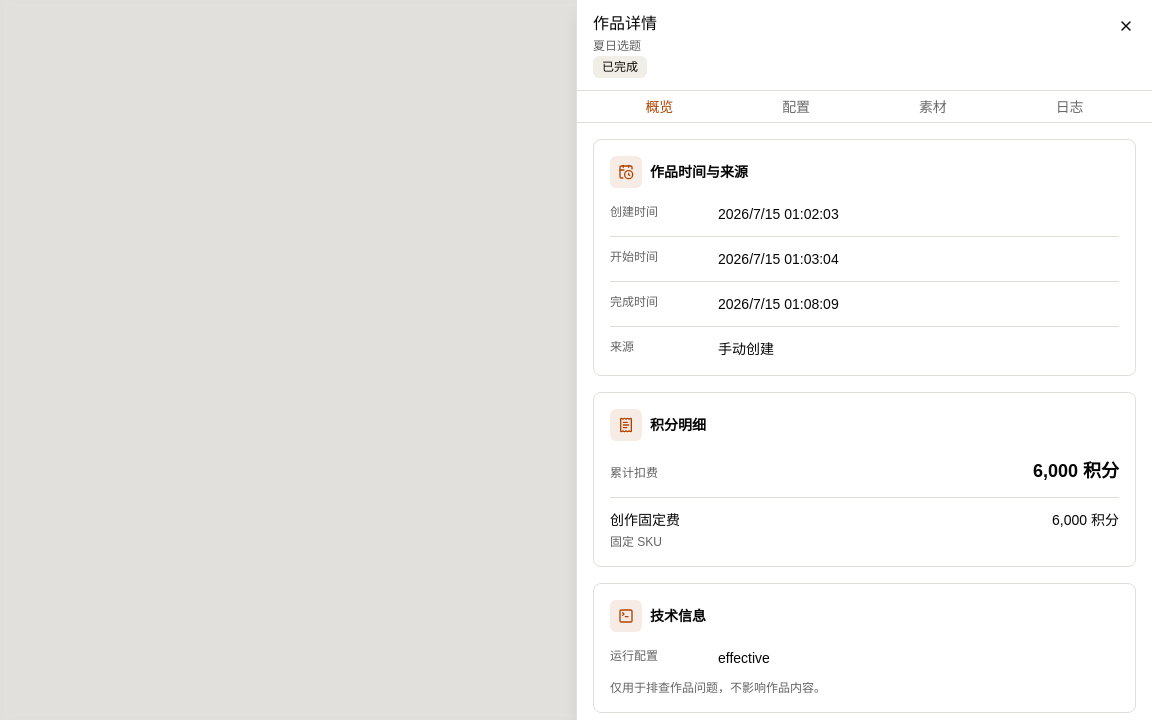
Test: TaskDetailsSheet › places configuration, materials, and logs in named grouped surfaces
Click the tab "配置". click: (796,106)
box: [730,84,863,128]
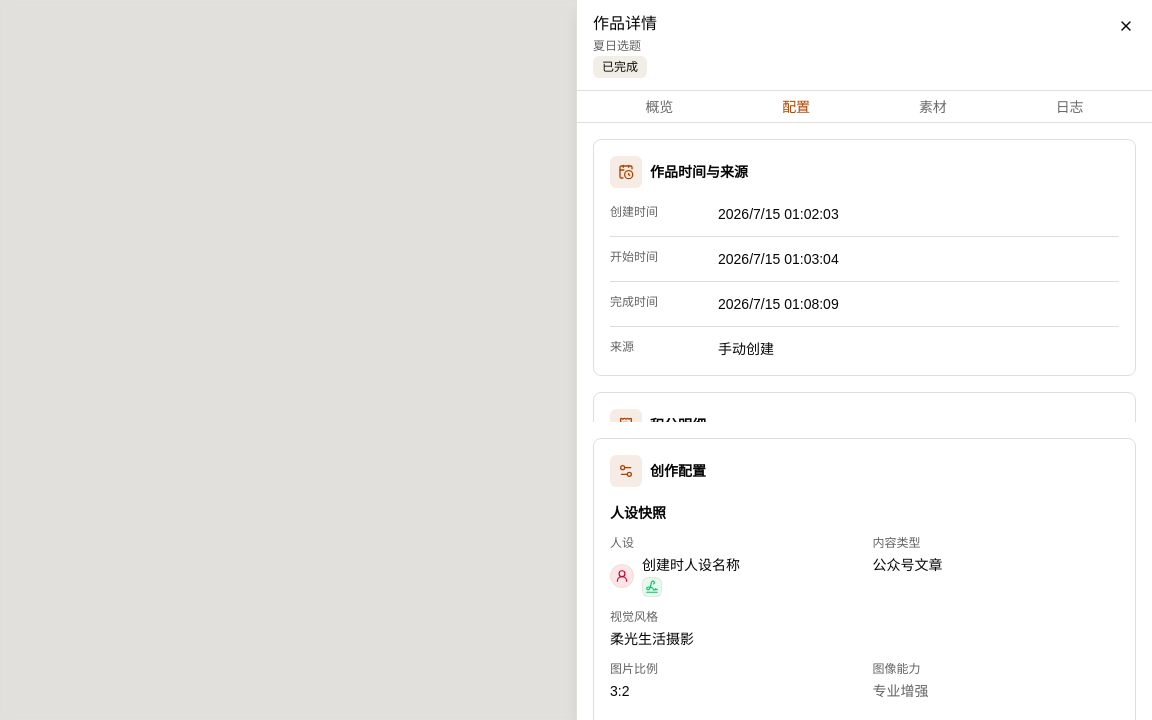
Check: the element named "创作配置详情" is shown, box [593,438,1136,719]
Click the tab "素材". click: (933,106)
box: [866,84,999,128]
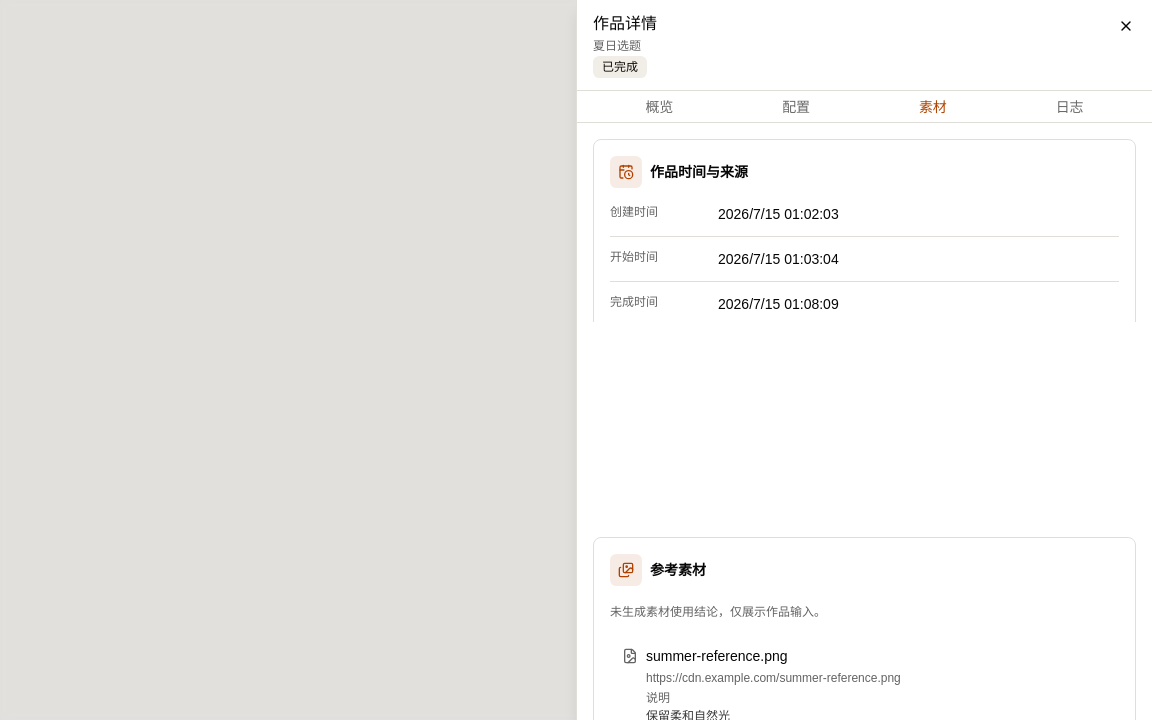
Check: the element named "参考素材详情" is shown, box [593,537,1136,719]
Click the tab "日志". click: (1070,106)
box: [1003,84,1136,128]
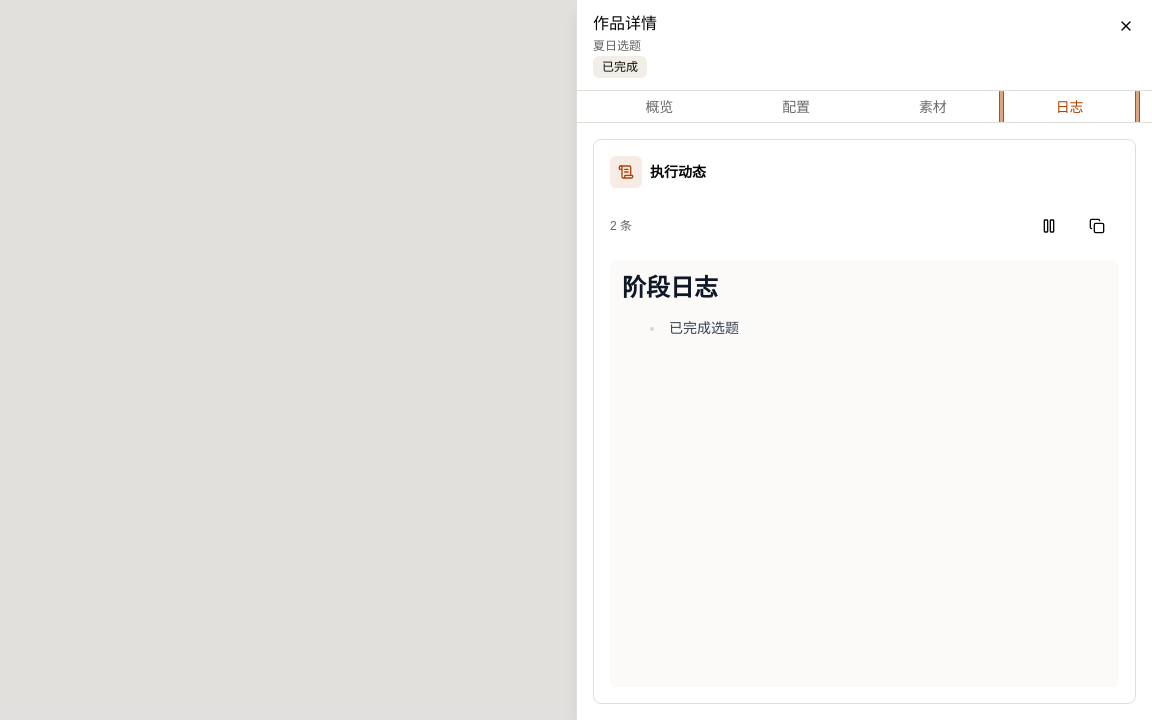
Check: the element "执行动态" is shown, box [593,139,1136,704]
